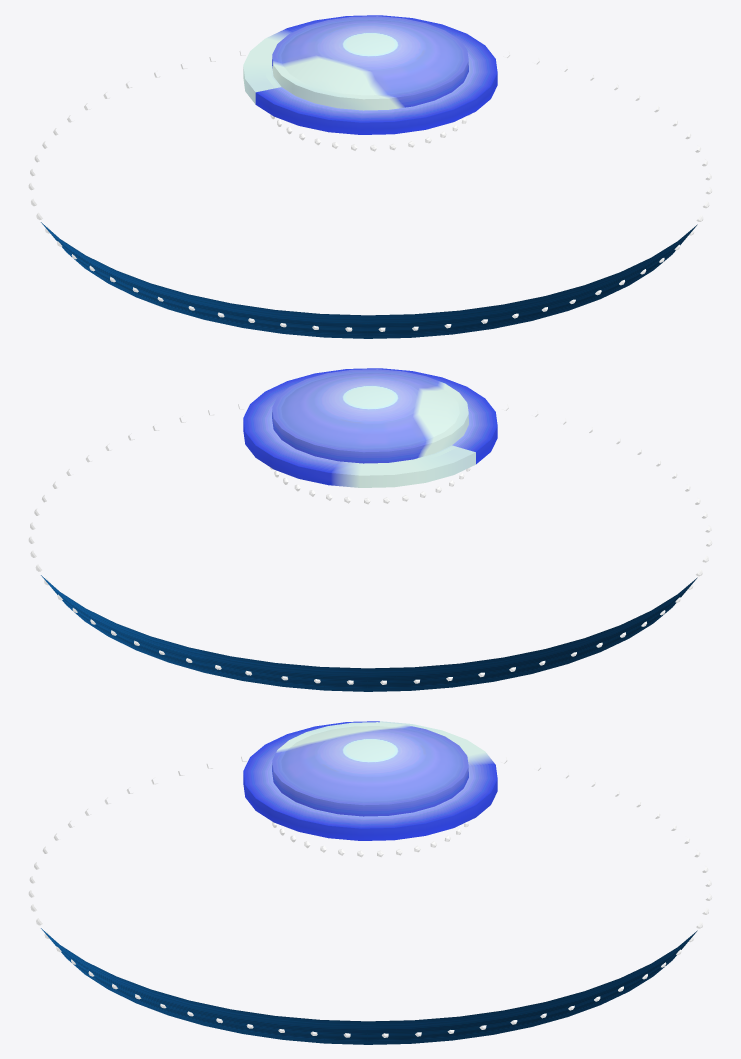
Rendered from wheel_bonus_platform.glb.
3 renders of one model, top to bottom at view 1: azimuth 30°, elevation 25°; view 2: azimuth 150°, elevation 25°; view 3: azimuth 270°, elevation 25°, orthographic.
Parts seen in each view (by area): view 1: bonus_top_circleShape, bonus_lower_ringShape:1, bonus_mid_ringShape, bonus_lower_lightsShape; view 2: bonus_top_circleShape, bonus_lower_ringShape:1, bonus_mid_ringShape, bonus_lower_lightsShape; view 3: bonus_top_circleShape, bonus_lower_ringShape:1, bonus_mid_ringShape, bonus_lower_lightsShape.
Boxes of the visible parts, box(x1,y1,x2,y2) form: bonus_top_circleShape: box(272, 16, 468, 110); bonus_lower_ringShape:1: box(41, 222, 697, 338); bonus_mid_ringShape: box(243, 15, 497, 134); bonus_lower_lightsShape: box(28, 51, 712, 331); bonus_top_circleShape: box(272, 369, 468, 463); bonus_lower_ringShape:1: box(41, 575, 697, 691); bonus_mid_ringShape: box(243, 368, 497, 487); bonus_lower_lightsShape: box(28, 404, 712, 684); bonus_top_circleShape: box(272, 722, 468, 816); bonus_lower_ringShape:1: box(41, 928, 697, 1044); bonus_mid_ringShape: box(243, 721, 497, 840); bonus_lower_lightsShape: box(28, 756, 711, 1037).
Size of the model in its own units: 122 by 35.12 by 122.
Materials: 6 (6 with a texture image).
